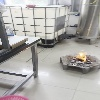fire: (72, 52, 87, 62)
